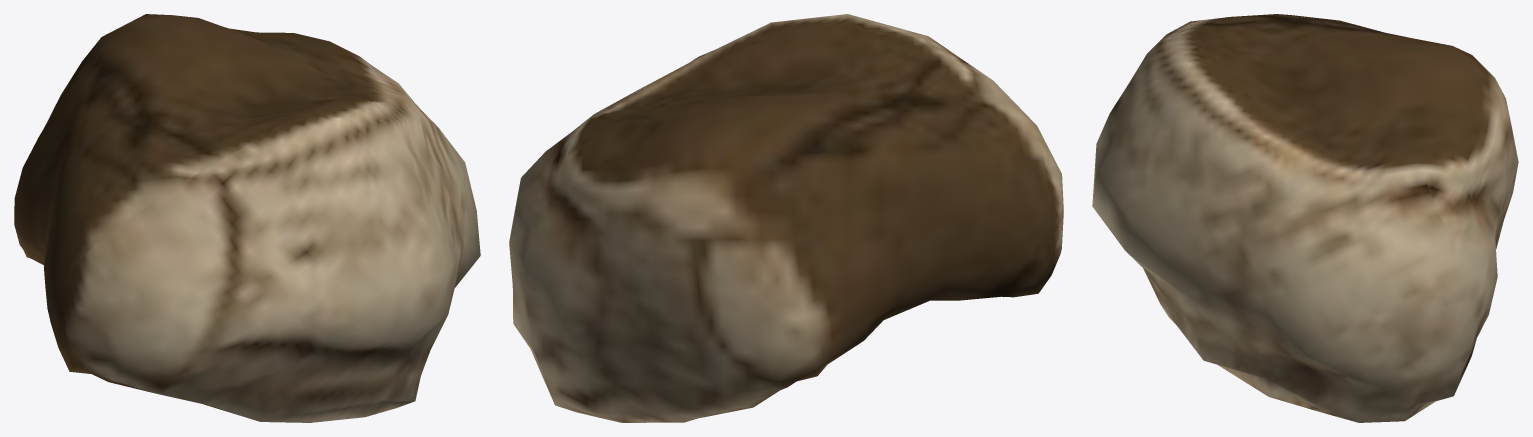
Rendered from Second_Carpal.glb.
The picture shows the model from 3 angles, left to right: view 1: azimuth 30°, elevation 25°; view 2: azimuth 150°, elevation 25°; view 3: azimuth 270°, elevation 25°; orthographic projection. The views are drawn at different scales.
Visible parts, largest first — view 1: R_Frt_Second_Carpal; view 2: R_Frt_Second_Carpal; view 3: R_Frt_Second_Carpal.
Boxes of the visible parts, <box> form: R_Frt_Second_Carpal: <box>14,14,480,422</box>; R_Frt_Second_Carpal: <box>509,14,1063,422</box>; R_Frt_Second_Carpal: <box>1092,14,1518,422</box>.
Size of the model in its own units: 0.0418 by 0.03 by 0.0388.
1 material, 1 textured.
